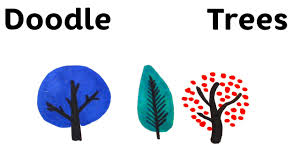tree: (29, 54, 114, 147), (126, 50, 180, 146), (181, 70, 248, 142)
